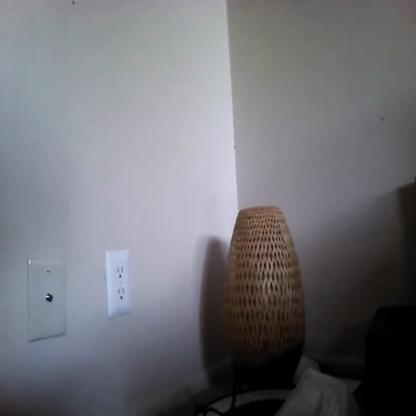OUTLET: (106, 250, 132, 314)
